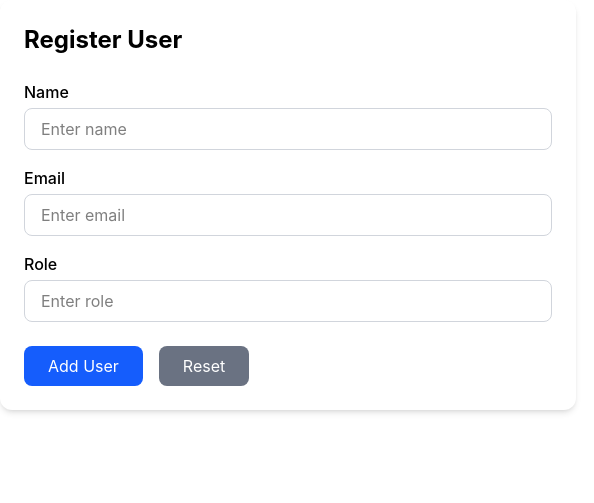
Scenario: UserForm Component › shows validation errors on empty submit
Click the button "Add User".
click(83, 366)  # box x1=24 y1=346 x2=143 y2=386
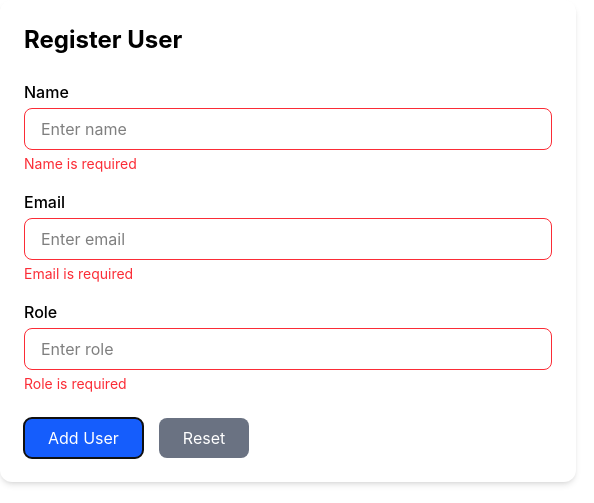
Check: the text "Name is required" is shown, box x1=24 y1=155 x2=137 y2=172
Check: the text "Email is required" is shown, box x1=24 y1=265 x2=133 y2=282
